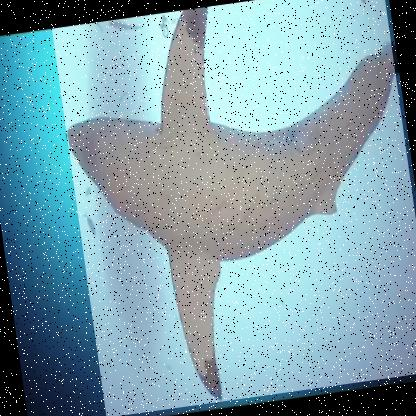white-shark: (51, 0, 415, 415)
